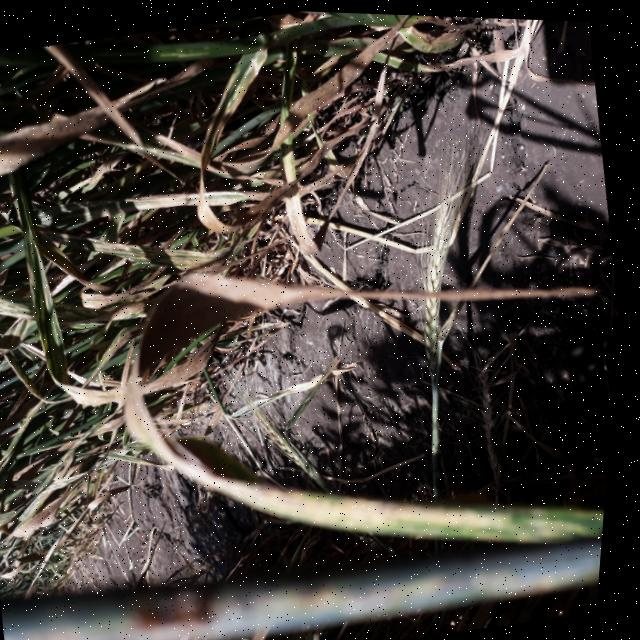black_stem_rust: (6, 472, 613, 640)
